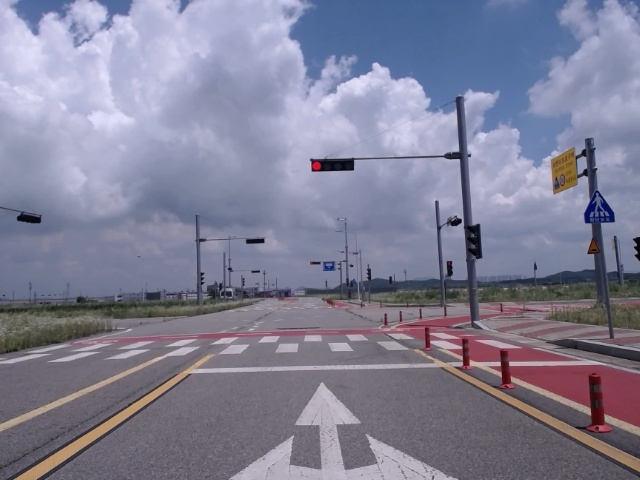red_4: (312, 159, 354, 172)
